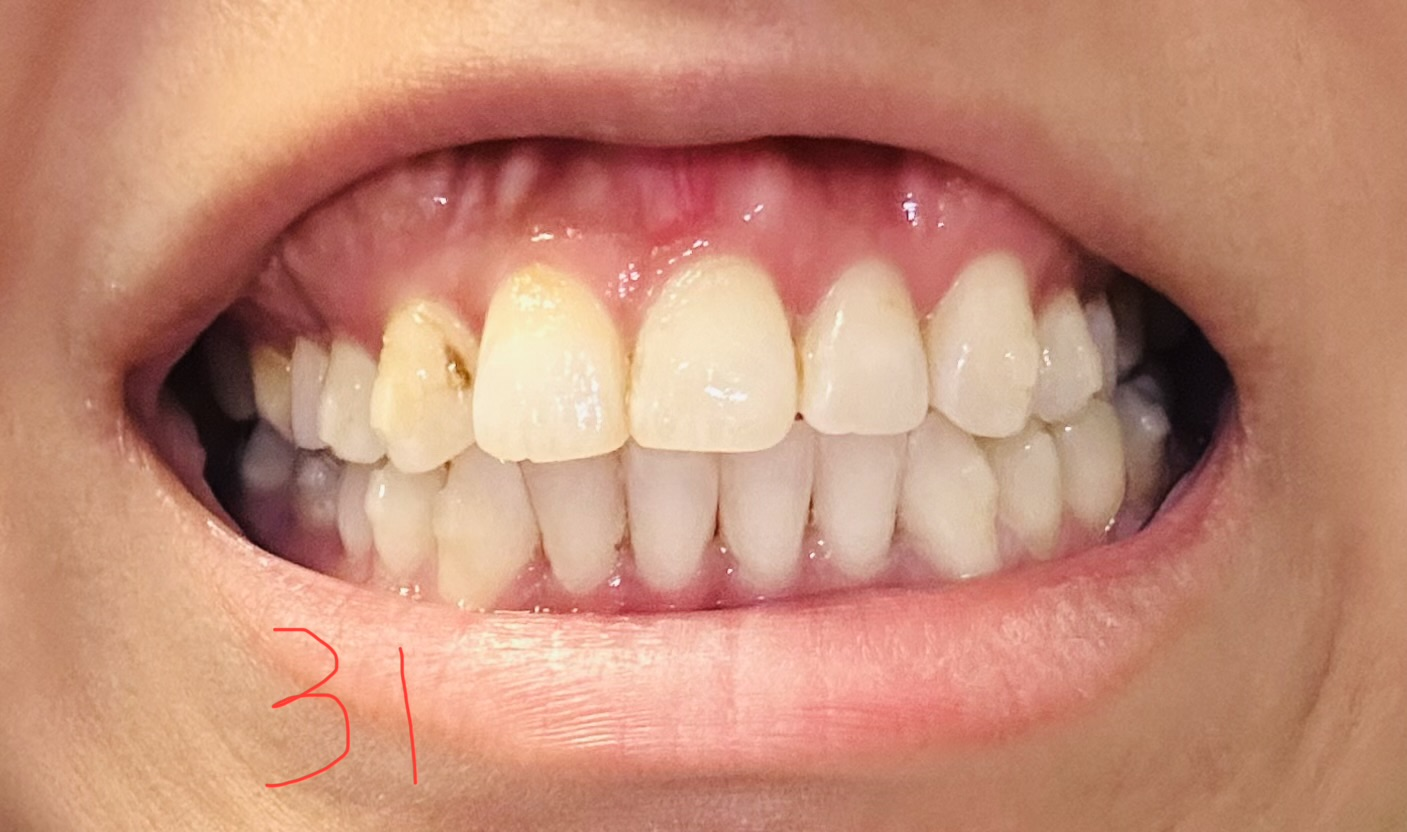teeth: (633, 254, 795, 446), (475, 261, 628, 458), (928, 258, 1037, 438), (803, 270, 923, 433), (379, 303, 475, 468), (899, 418, 998, 573), (441, 459, 528, 610), (723, 441, 812, 577), (522, 466, 623, 582), (820, 439, 906, 571), (628, 461, 718, 587), (998, 436, 1064, 559), (373, 463, 440, 579), (1063, 412, 1125, 533), (1040, 291, 1097, 422), (322, 341, 381, 461), (1123, 377, 1165, 496), (250, 349, 291, 439), (204, 337, 248, 418), (292, 341, 326, 445), (237, 428, 295, 486), (337, 467, 370, 560), (291, 459, 338, 522), (1094, 304, 1118, 392)
